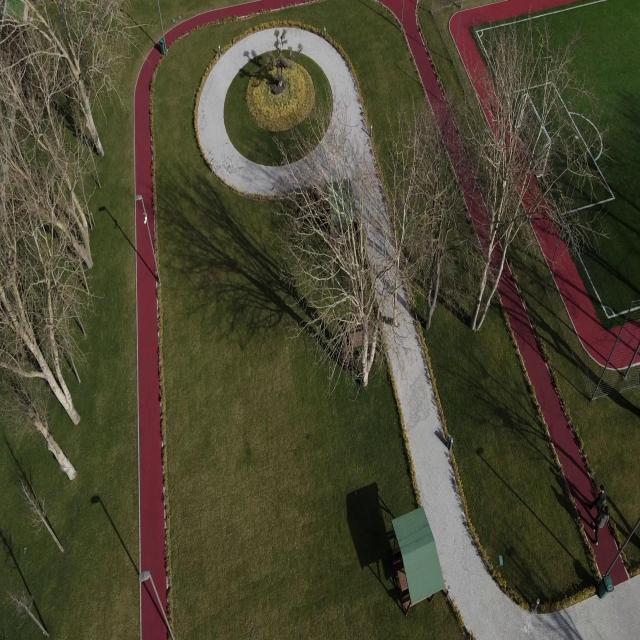p3rson: (592, 506, 609, 545), (587, 485, 606, 513)
